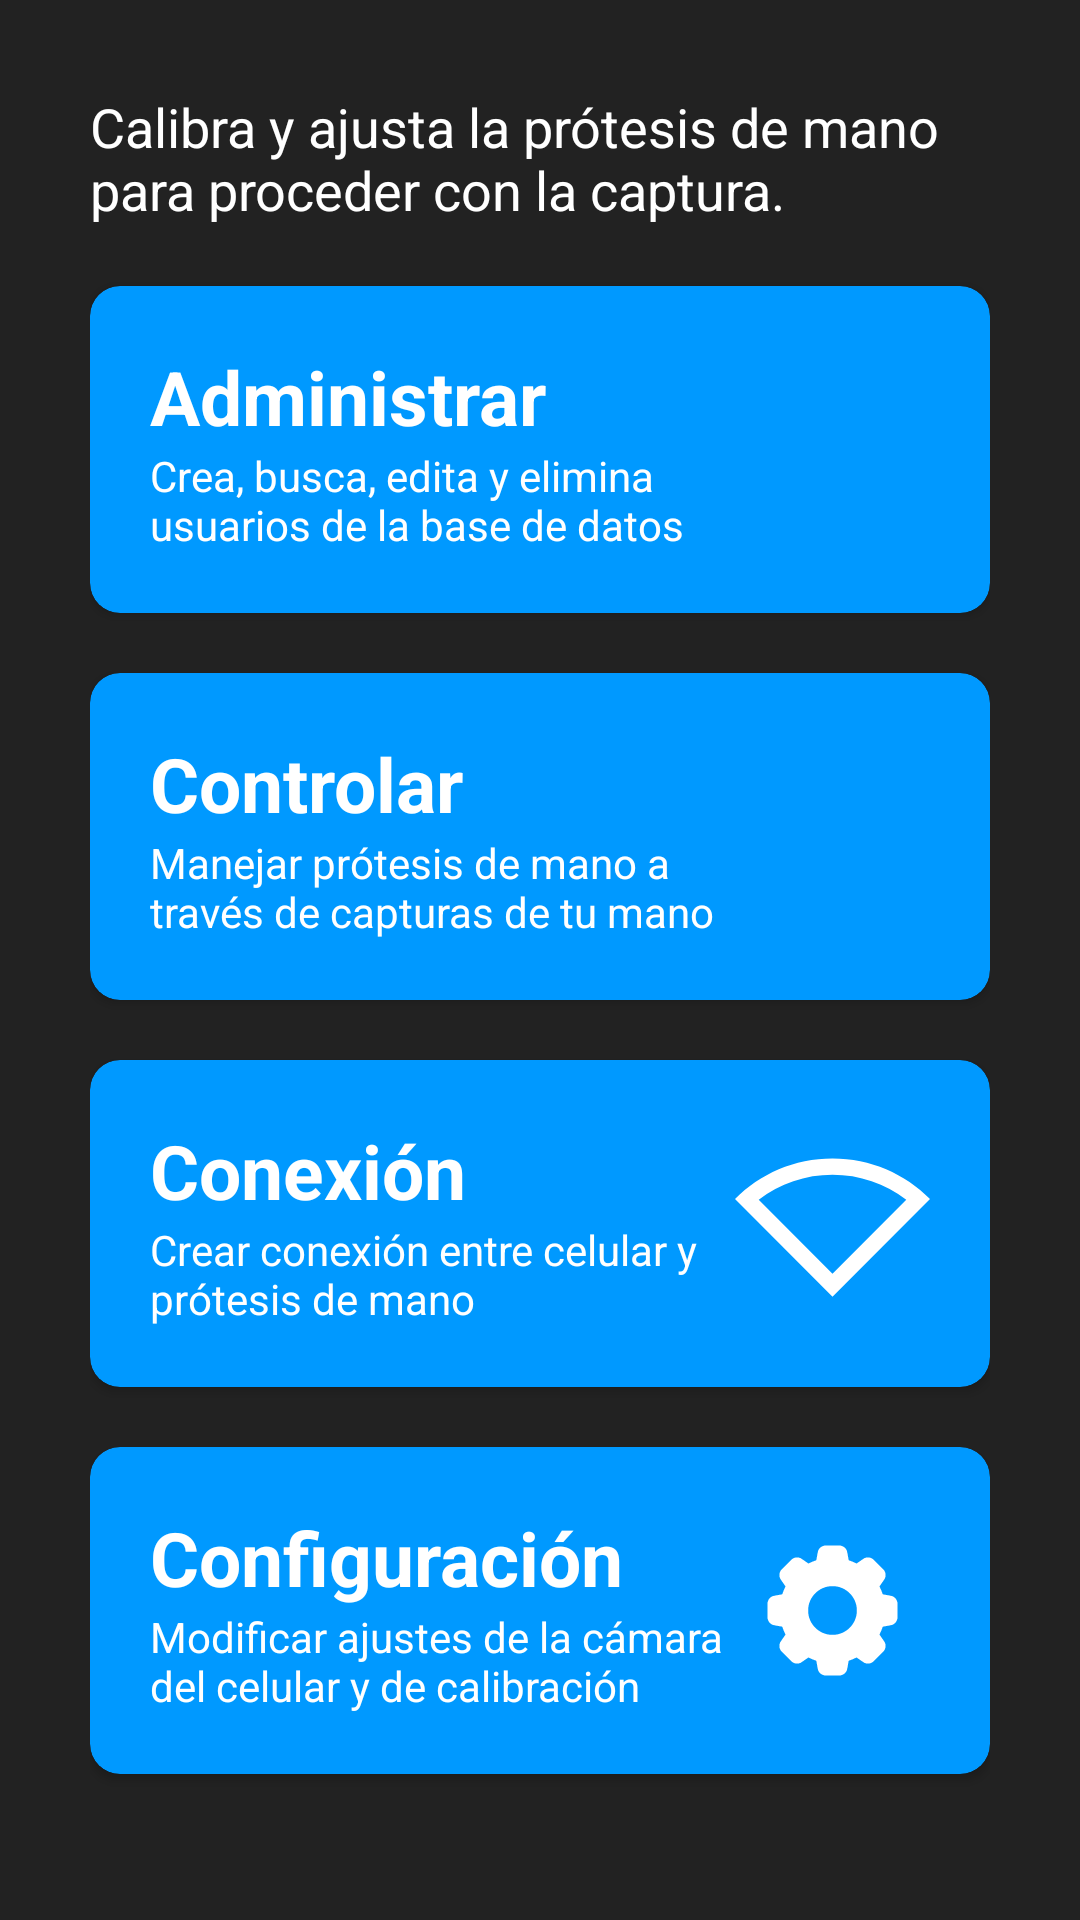

Point at icon controls on the screen. Image size 1080 × 1920, points as (x,y).
settings: (832,1610)
wifi: (832,1227)
